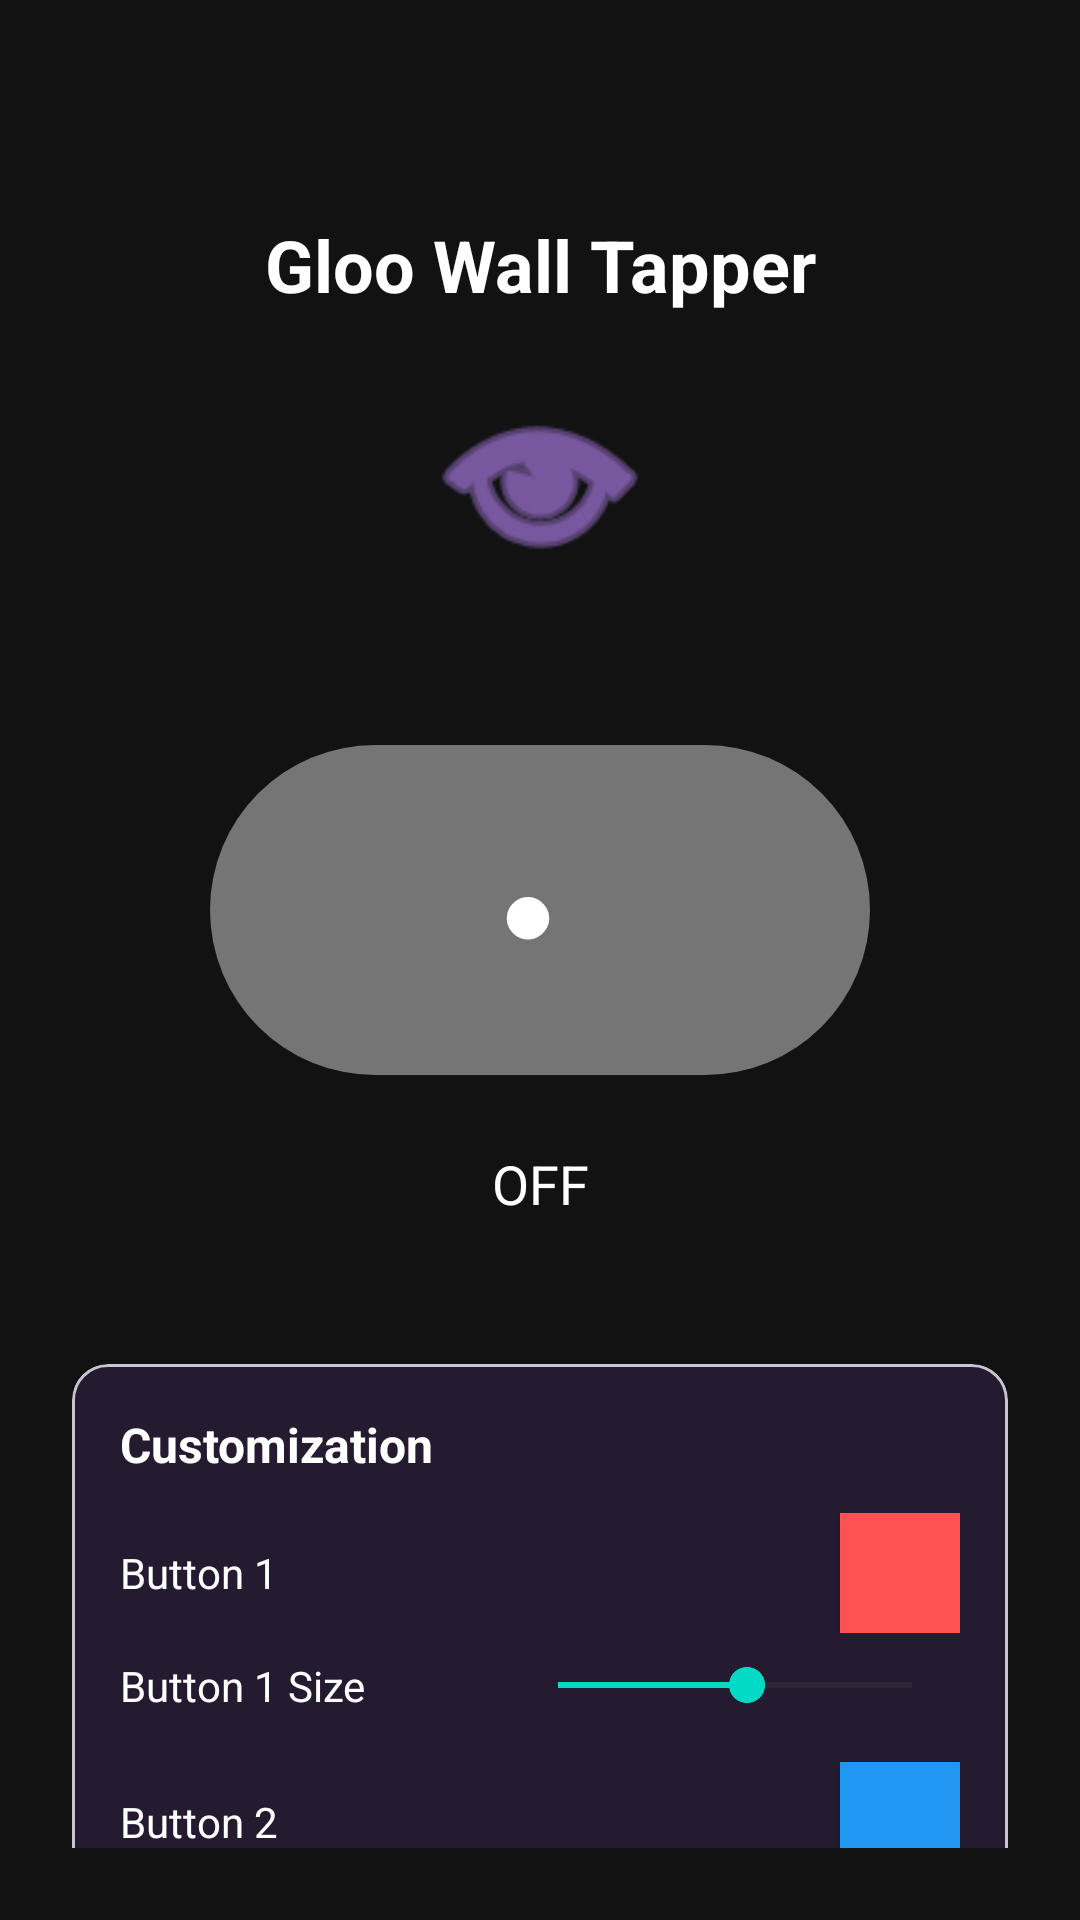

Screen size 1080px×1920px. Icon name, then its center in pixels as [x,y]:
view: [540,487]
